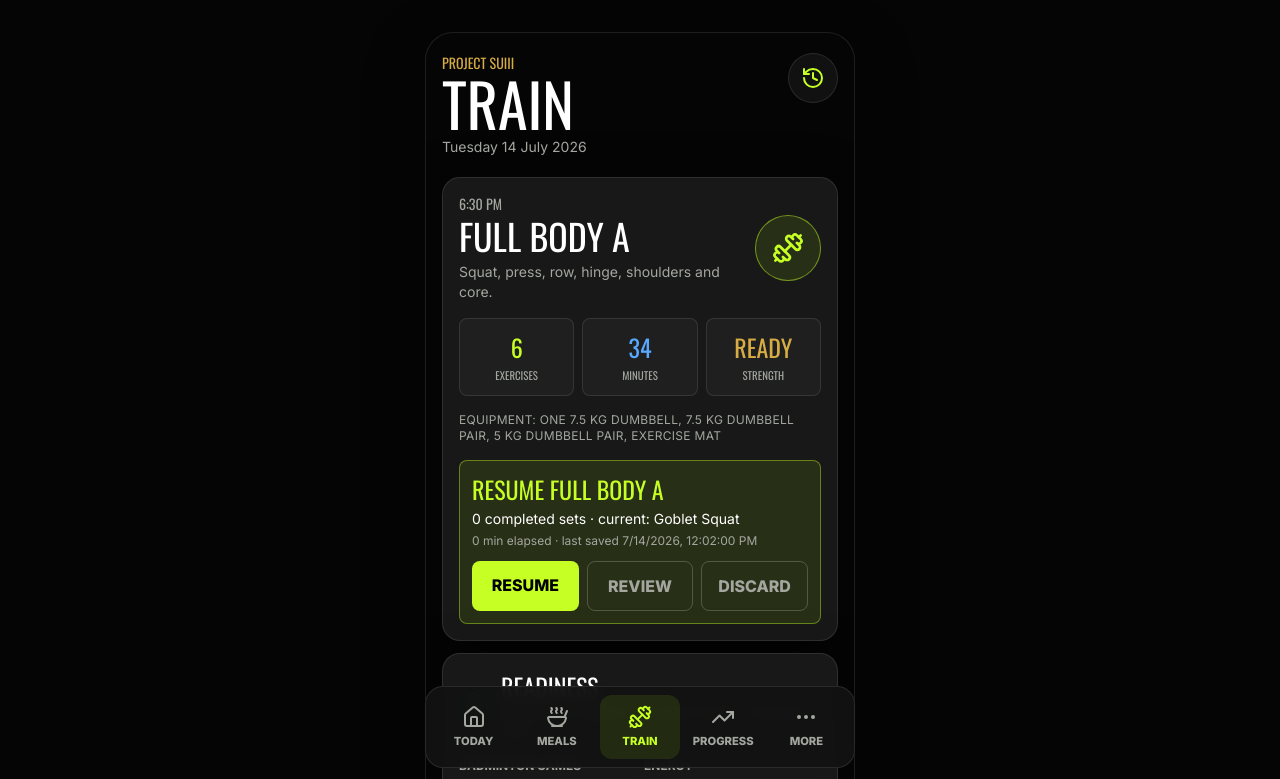
Test: Phase 3 training flow › restores an active session on the dashboard with review and confirmed discard actions
Expected: the heading "Resume Full Body A" is shown, left=472, top=471, right=664, bottom=507
Expected: the text "0 completed sets · current: Goblet Squat" is shown, left=472, top=510, right=740, bottom=527
What coordinates should you click on to do the following:
click the button "Discard"
I would click on:
 (755, 586)
Its box is left=701, top=561, right=808, bottom=611.
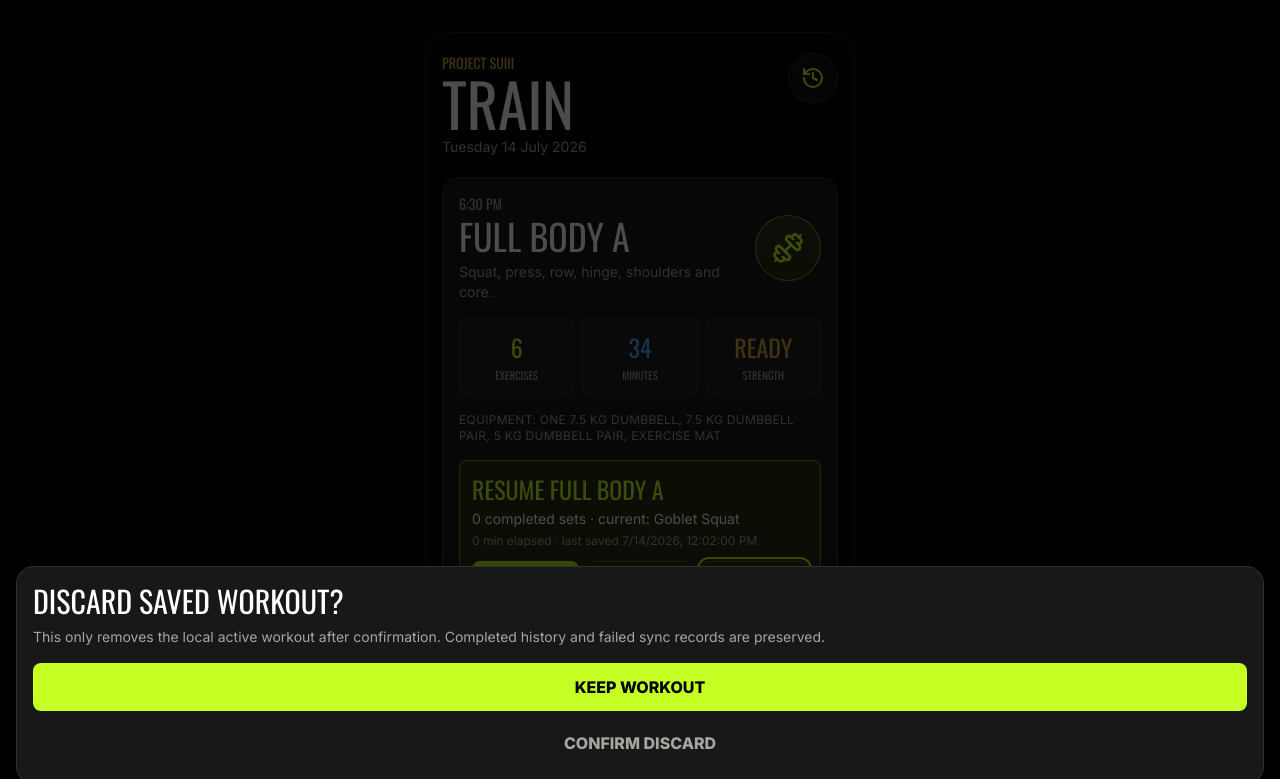
Expected: the heading "Discard saved workout?" is shown, left=33, top=578, right=344, bottom=623
What coordinates should you click on to do the following:
click the button "Keep Workout"
I would click on:
 (640, 687)
Its box is left=33, top=663, right=1247, bottom=711.
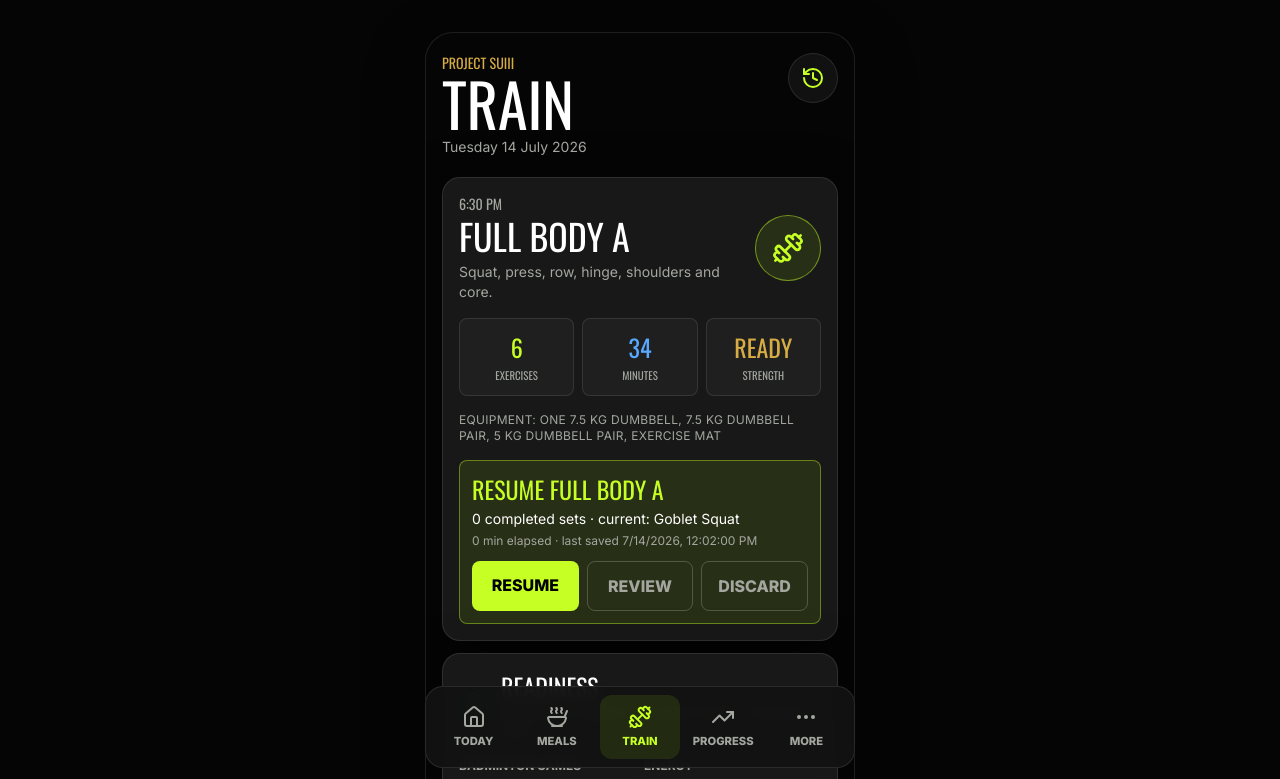
Expected: the heading "Discard saved workout" is gone
